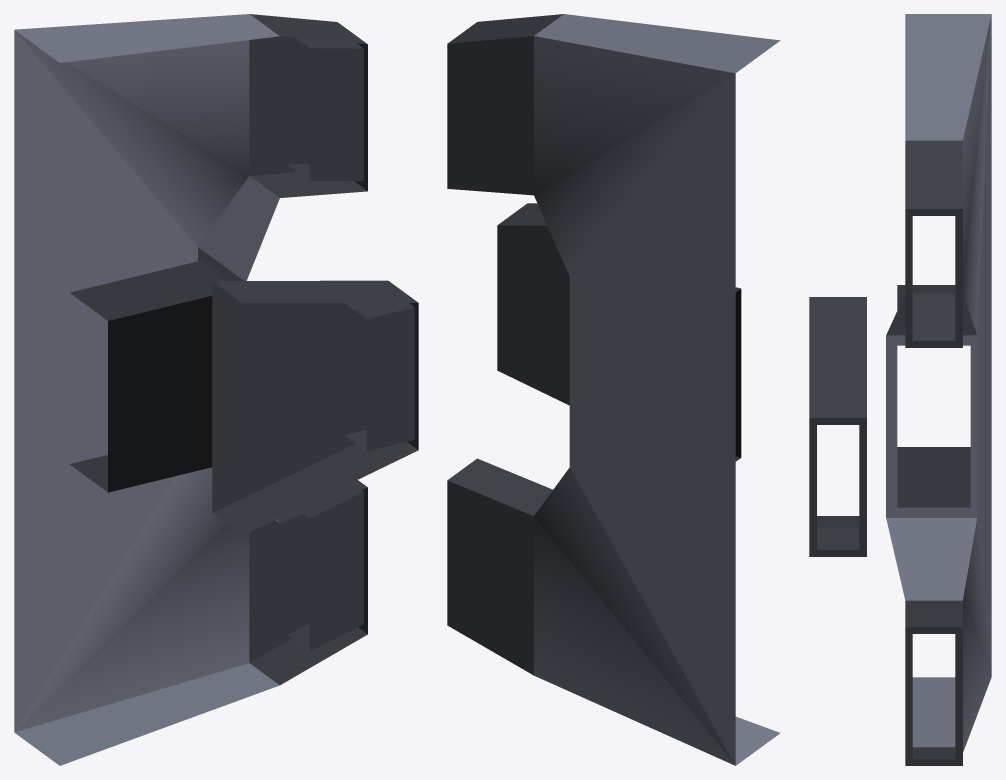
File: MothershipEntrance.fbx
3 renders of one model, left to right at view 1: azimuth 30°, elevation 25°; view 2: azimuth 150°, elevation 25°; view 3: azimuth 270°, elevation 25°, orthographic. The views are drawn at different scales.
Visible parts, largest first — view 1: Mothership Entrance; view 2: Mothership Entrance; view 3: Mothership Entrance.
Part boxes in pixels (box(x1,y1,x2,y2)): Mothership Entrance: box(14, 14, 418, 765); Mothership Entrance: box(447, 14, 780, 765); Mothership Entrance: box(809, 14, 991, 765).
Bounding box in the file's own units: 700 × 1526 × 380.
